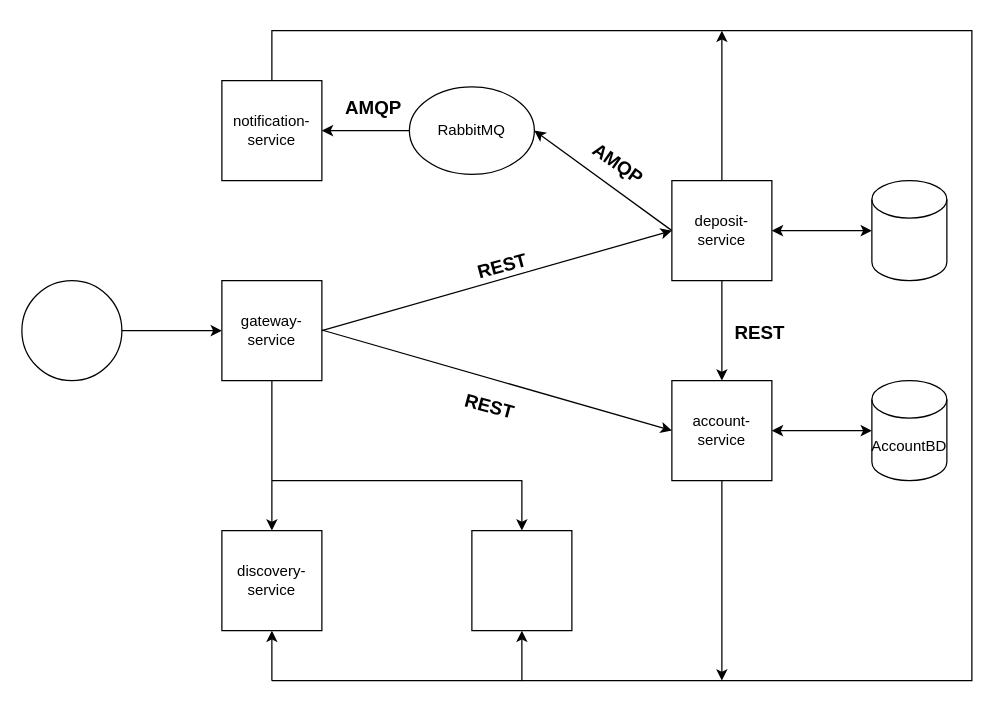
Image size: 1004x713. Some labels were removed from this diagram. Here are the shapes that lost their labels. From the top down, the centre of each, then its label:
the point at 909,230: DepositBD
the point at 71,330: Client
the point at 521,580: config- service
